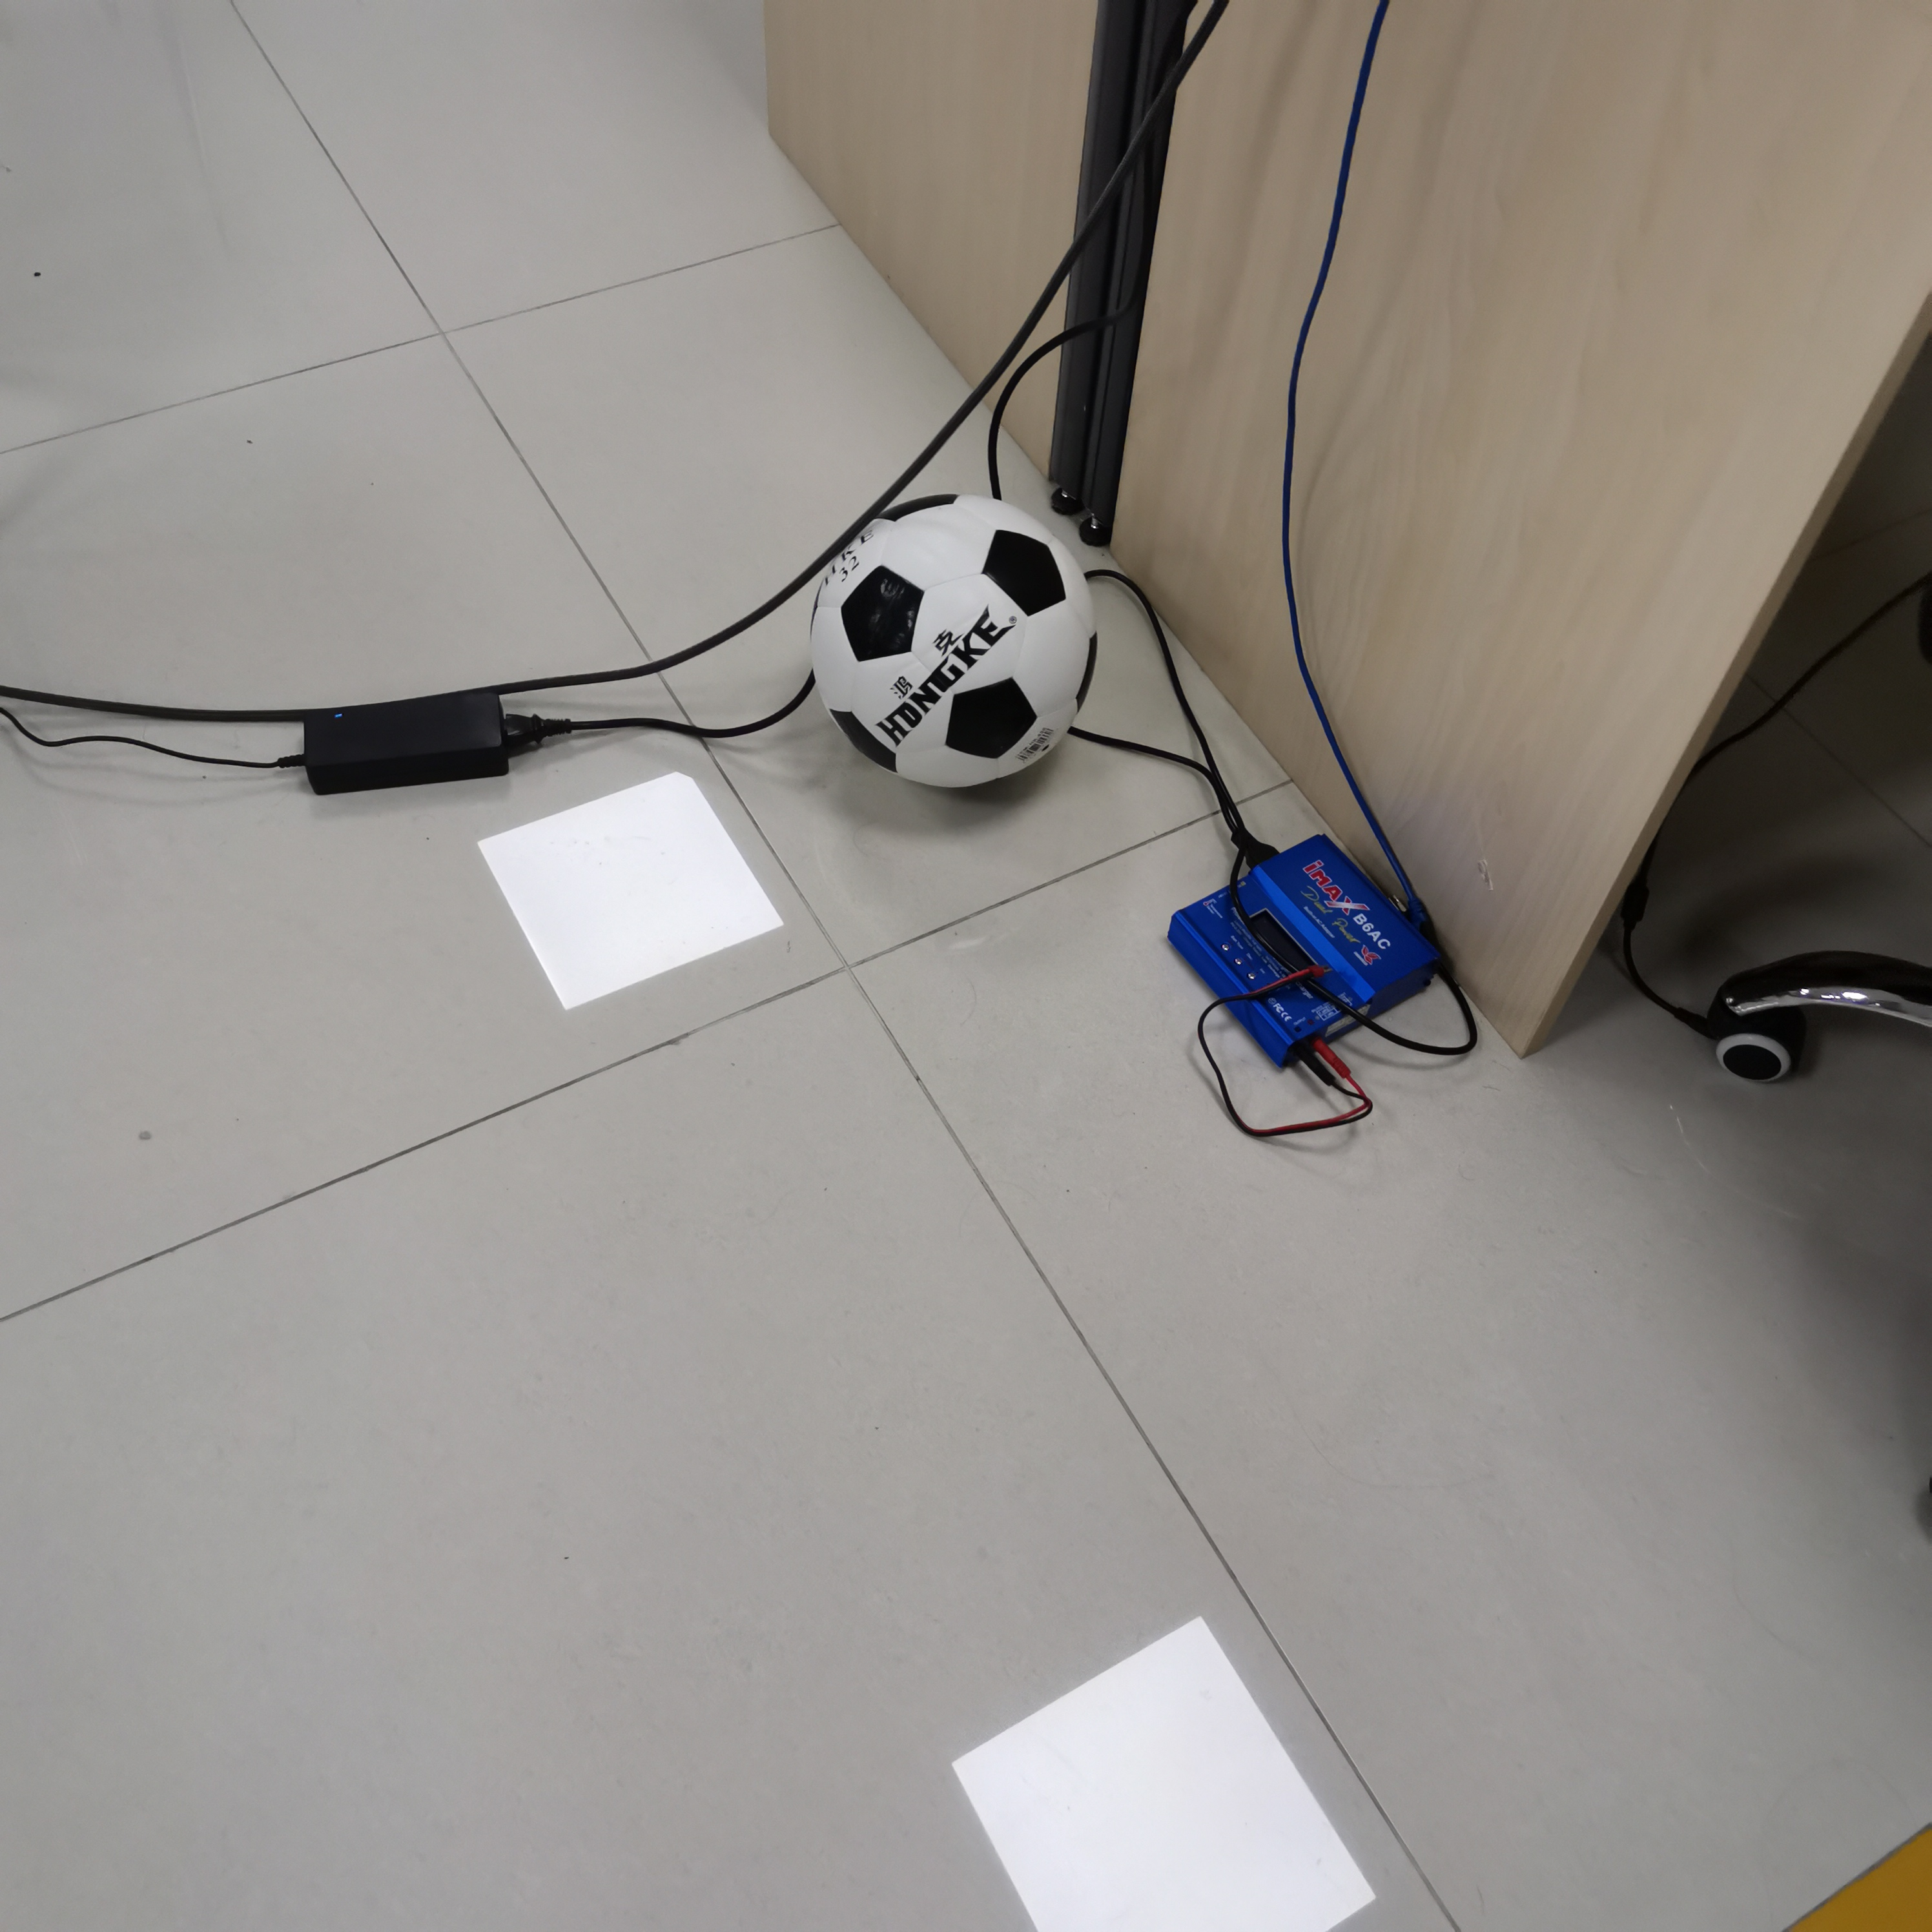football: (805, 495, 1097, 793)
